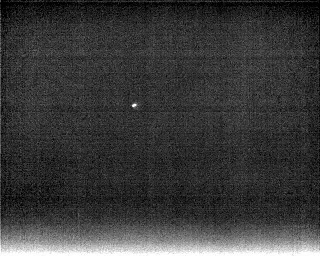BIRD: (130, 100, 139, 110)
